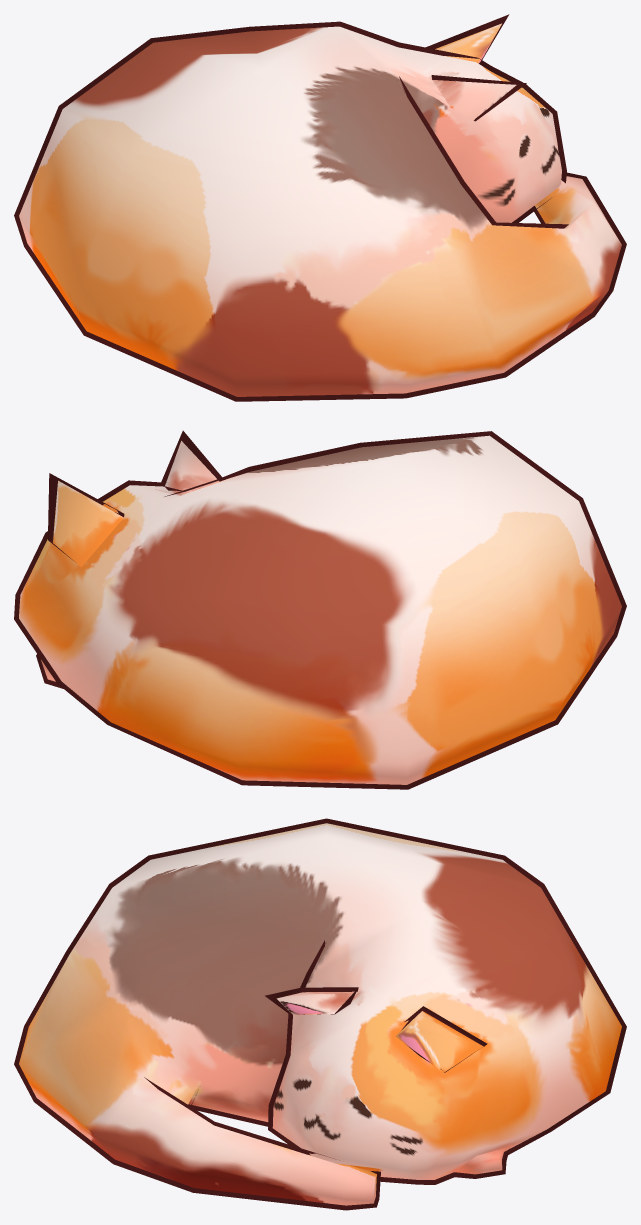
Rendered from sleeping_cat.glb.
The picture shows the model from 3 angles, top to bottom: view 1: azimuth 30°, elevation 25°; view 2: azimuth 150°, elevation 25°; view 3: azimuth 270°, elevation 25°; orthographic projection.
Parts seen in each view (by area): view 1: Object_2, Object_3; view 2: Object_2, Object_3; view 3: Object_2, Object_3.
Boxes of the visible parts, x1,y1,x2,y2 form: Object_2: (19, 23, 621, 396); Object_3: (14, 14, 626, 401); Object_2: (19, 435, 621, 784); Object_3: (14, 430, 626, 789); Object_2: (19, 823, 621, 1205); Object_3: (14, 818, 626, 1210).
Bounding box in the file's own units: 1.98 × 0.8279 × 2.04.
2 materials, 1 textured.
